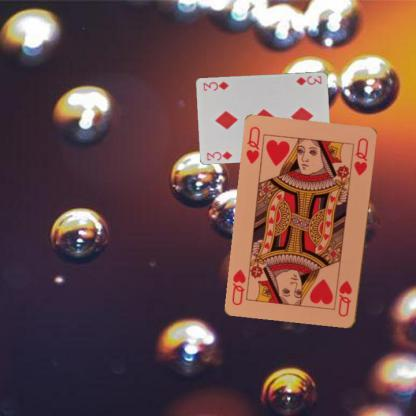3d: (204, 148, 234, 162), (294, 72, 323, 86)
Qh: (244, 124, 262, 165), (336, 278, 354, 318)
